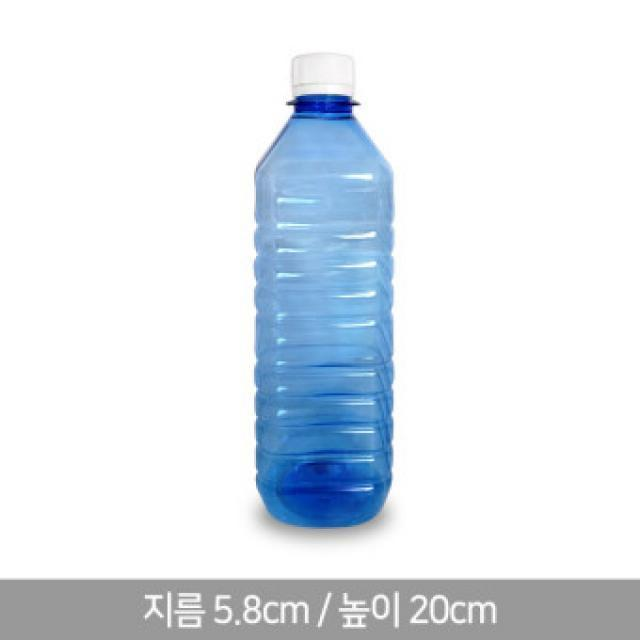plastic_bottle: (254, 53, 394, 526)
